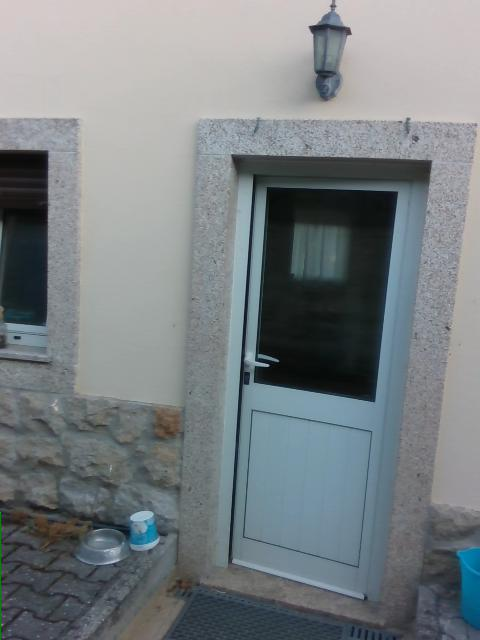door: (211, 156, 431, 617)
